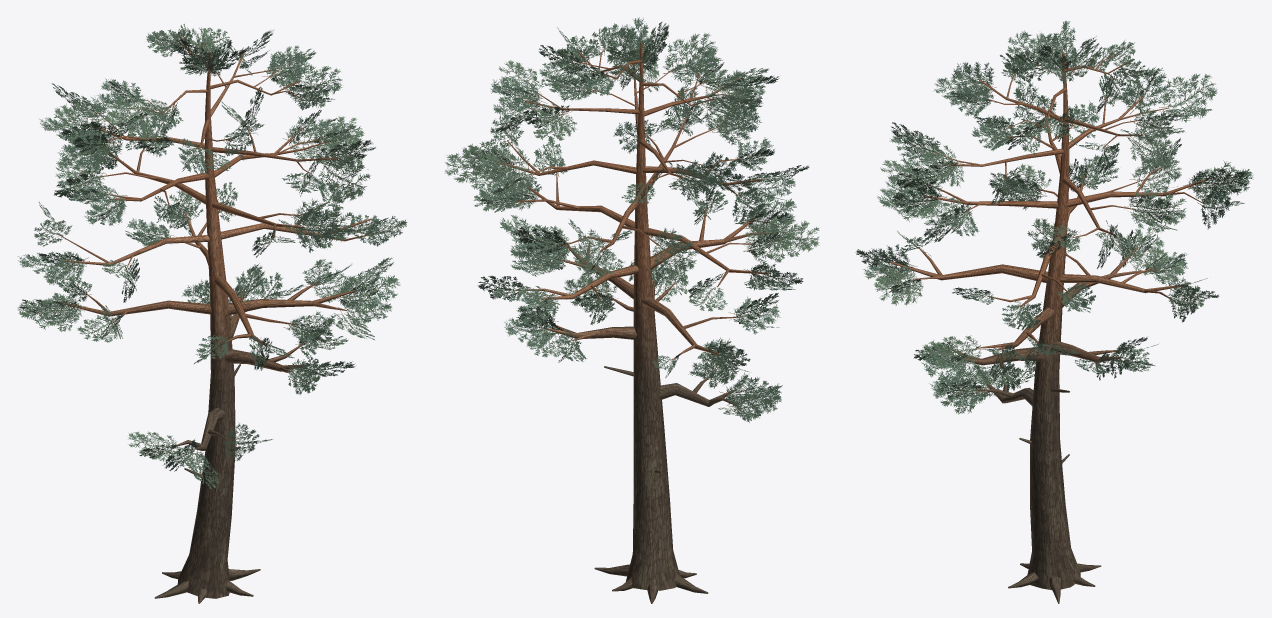
File: tree-pine-1.glb
3 views of the same model, side by side, from view 1: azimuth 30°, elevation 25°; view 2: azimuth 150°, elevation 25°; view 3: azimuth 270°, elevation 25° (orthographic). The views are drawn at different scales.
Visible parts, largest first — view 1: Scots Pine – Upright; view 2: Scots Pine – Upright; view 3: Scots Pine – Upright.
Boxes of the visible parts, x1,y1,x2,y2 form: Scots Pine – Upright: [17, 24, 407, 603]; Scots Pine – Upright: [445, 17, 819, 603]; Scots Pine – Upright: [855, 20, 1253, 603].
Bounding box in the file's own units: 6.49 × 10 × 6.59.
Materials: 2 (2 with a texture image).
